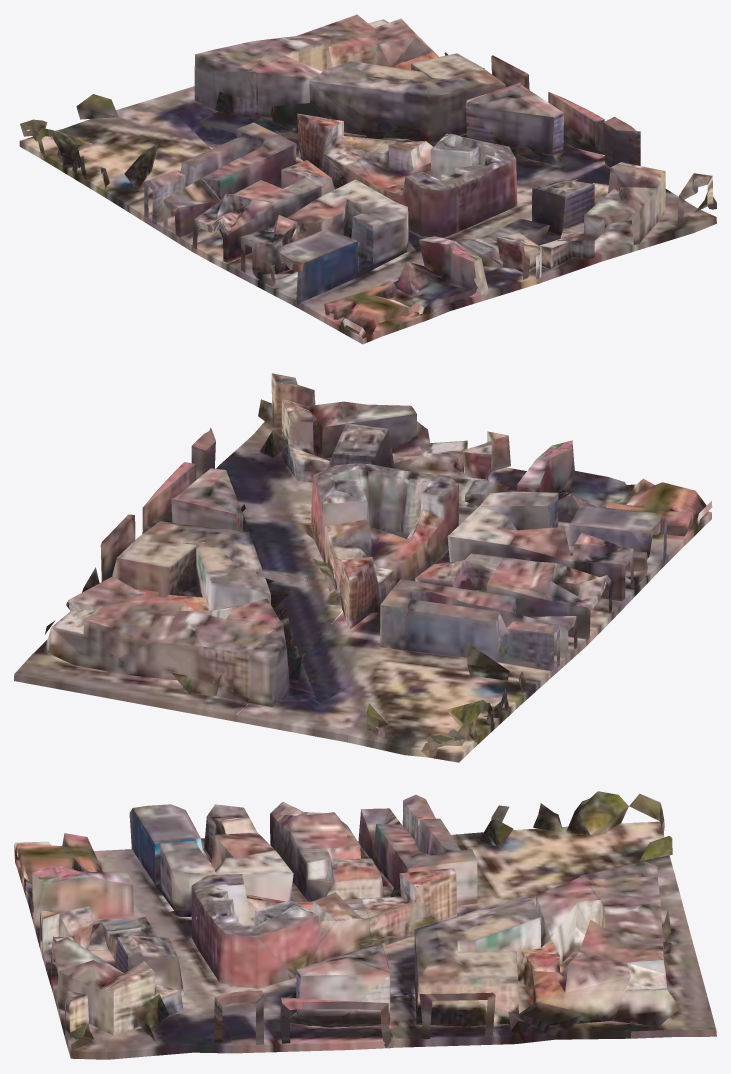
3 renders of one model, top to bottom at view 1: azimuth 30°, elevation 25°; view 2: azimuth 150°, elevation 25°; view 3: azimuth 270°, elevation 25°, orthographic. The views are drawn at different scales.
Parts seen in each view (by area): view 1: Mesh_0; view 2: Mesh_0; view 3: Mesh_0.
Part boxes in pixels (left/top/right/bottom): Mesh_0: left=19, top=14, right=716, bottom=344; Mesh_0: left=14, top=373, right=712, bottom=762; Mesh_0: left=14, top=791, right=716, bottom=1059.
Bounding box in the file's own units: 270 × 40.76 × 330.
Materials: 2 (2 with a texture image).
